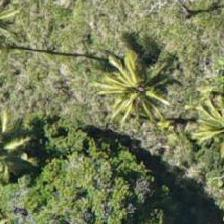coconut_tree: (79, 13, 169, 103), (172, 82, 223, 172)
